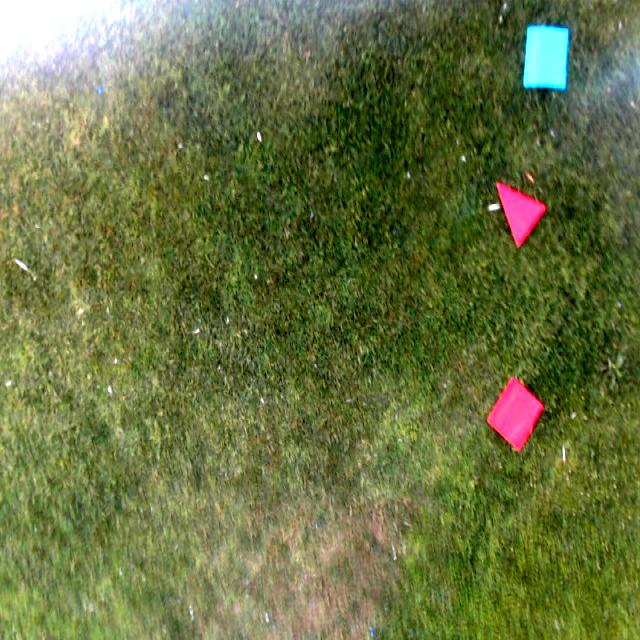blue_square: (524, 27, 568, 90)
red_square: (488, 378, 543, 452)
red_triangle: (495, 181, 546, 247)
